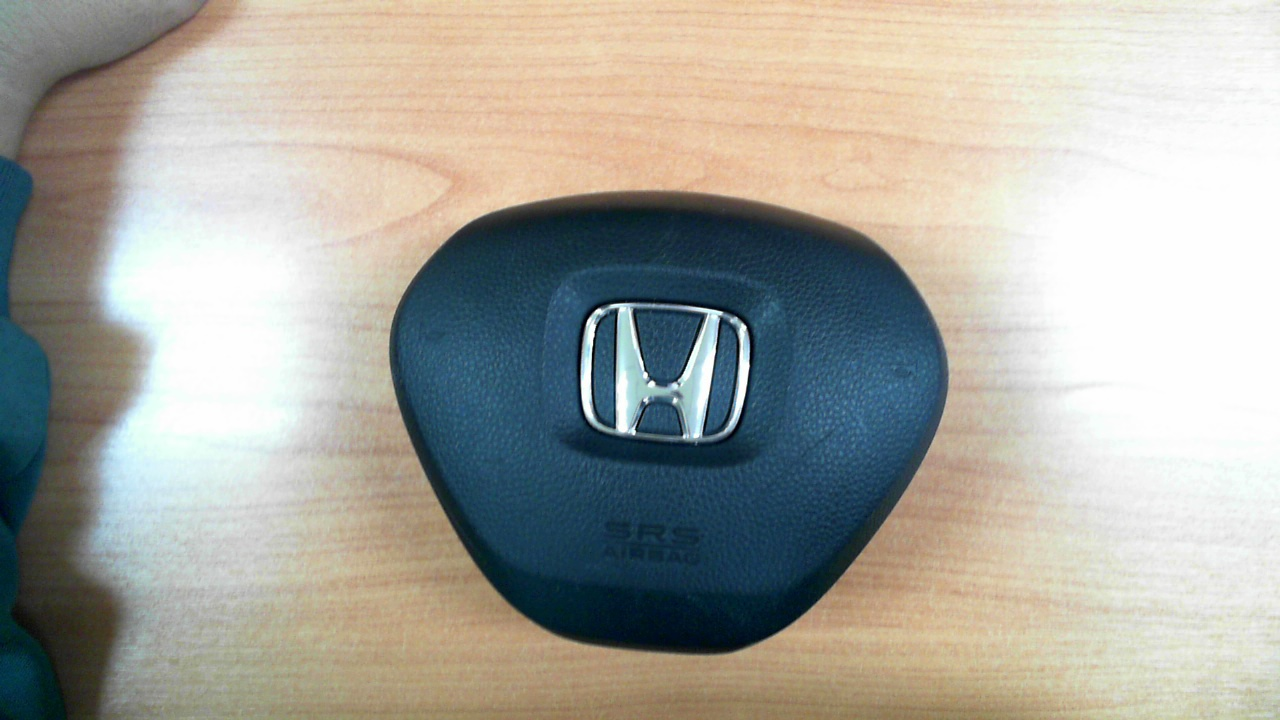Airbag: (389, 190, 949, 656)
Honda: (578, 298, 753, 446)
